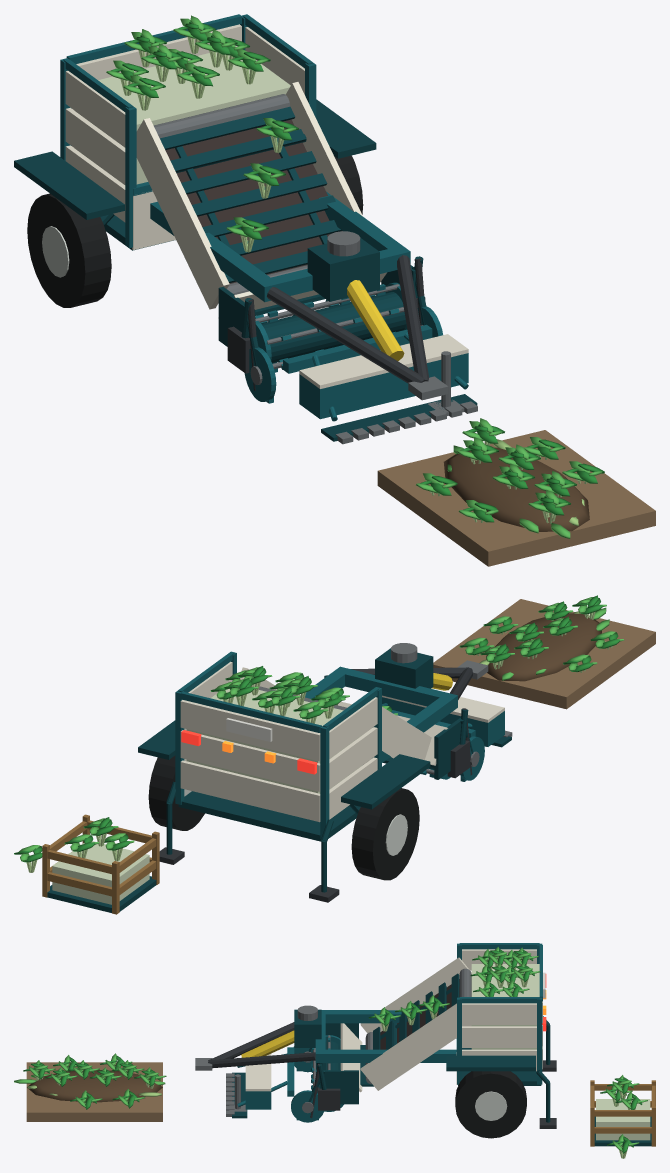
The model's file is komatsuna_harvester.glb.
3 views of the same model, one above another, from view 1: azimuth 30°, elevation 25°; view 2: azimuth 150°, elevation 25°; view 3: azimuth 270°, elevation 25° (orthographic). The views are drawn at different scales.
Visible parts, largest first — view 1: KomatsunaBody, KomatsunaProps, KomatsunaPickup; view 2: KomatsunaBody, KomatsunaProps; view 3: KomatsunaBody, KomatsunaProps, KomatsunaPickup.
Boxes of the visible parts, x1,y1,x2,y2 form: KomatsunaBody: [14, 14, 477, 444]; KomatsunaProps: [377, 418, 655, 566]; KomatsunaPickup: [255, 282, 407, 372]; KomatsunaBody: [138, 643, 512, 902]; KomatsunaProps: [14, 595, 655, 914]; KomatsunaBody: [195, 943, 556, 1138]; KomatsunaProps: [14, 1053, 655, 1158]; KomatsunaPickup: [311, 1035, 343, 1111].
Bounding box in the file's own units: 3.11 × 1.78 × 7.53.
